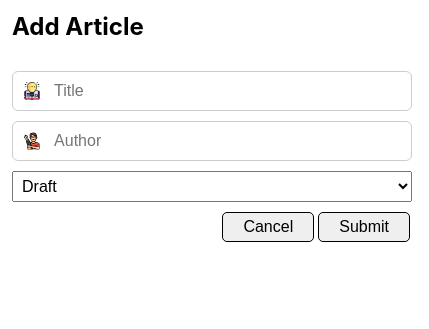
it: ArticleForm › WHEN submit is clicked with empty fields THEN it shows error
Click the button "Submit".
click(364, 227)  # box x1=318 y1=212 x2=410 y2=242
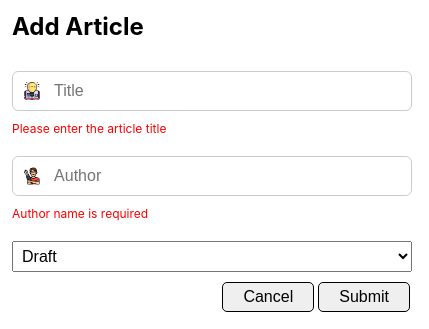
Expected: the text "Please enter the article title" is shown, x1=12 y1=121 x2=166 y2=136
Expected: the text "Author name is required" is shown, x1=12 y1=206 x2=148 y2=221
